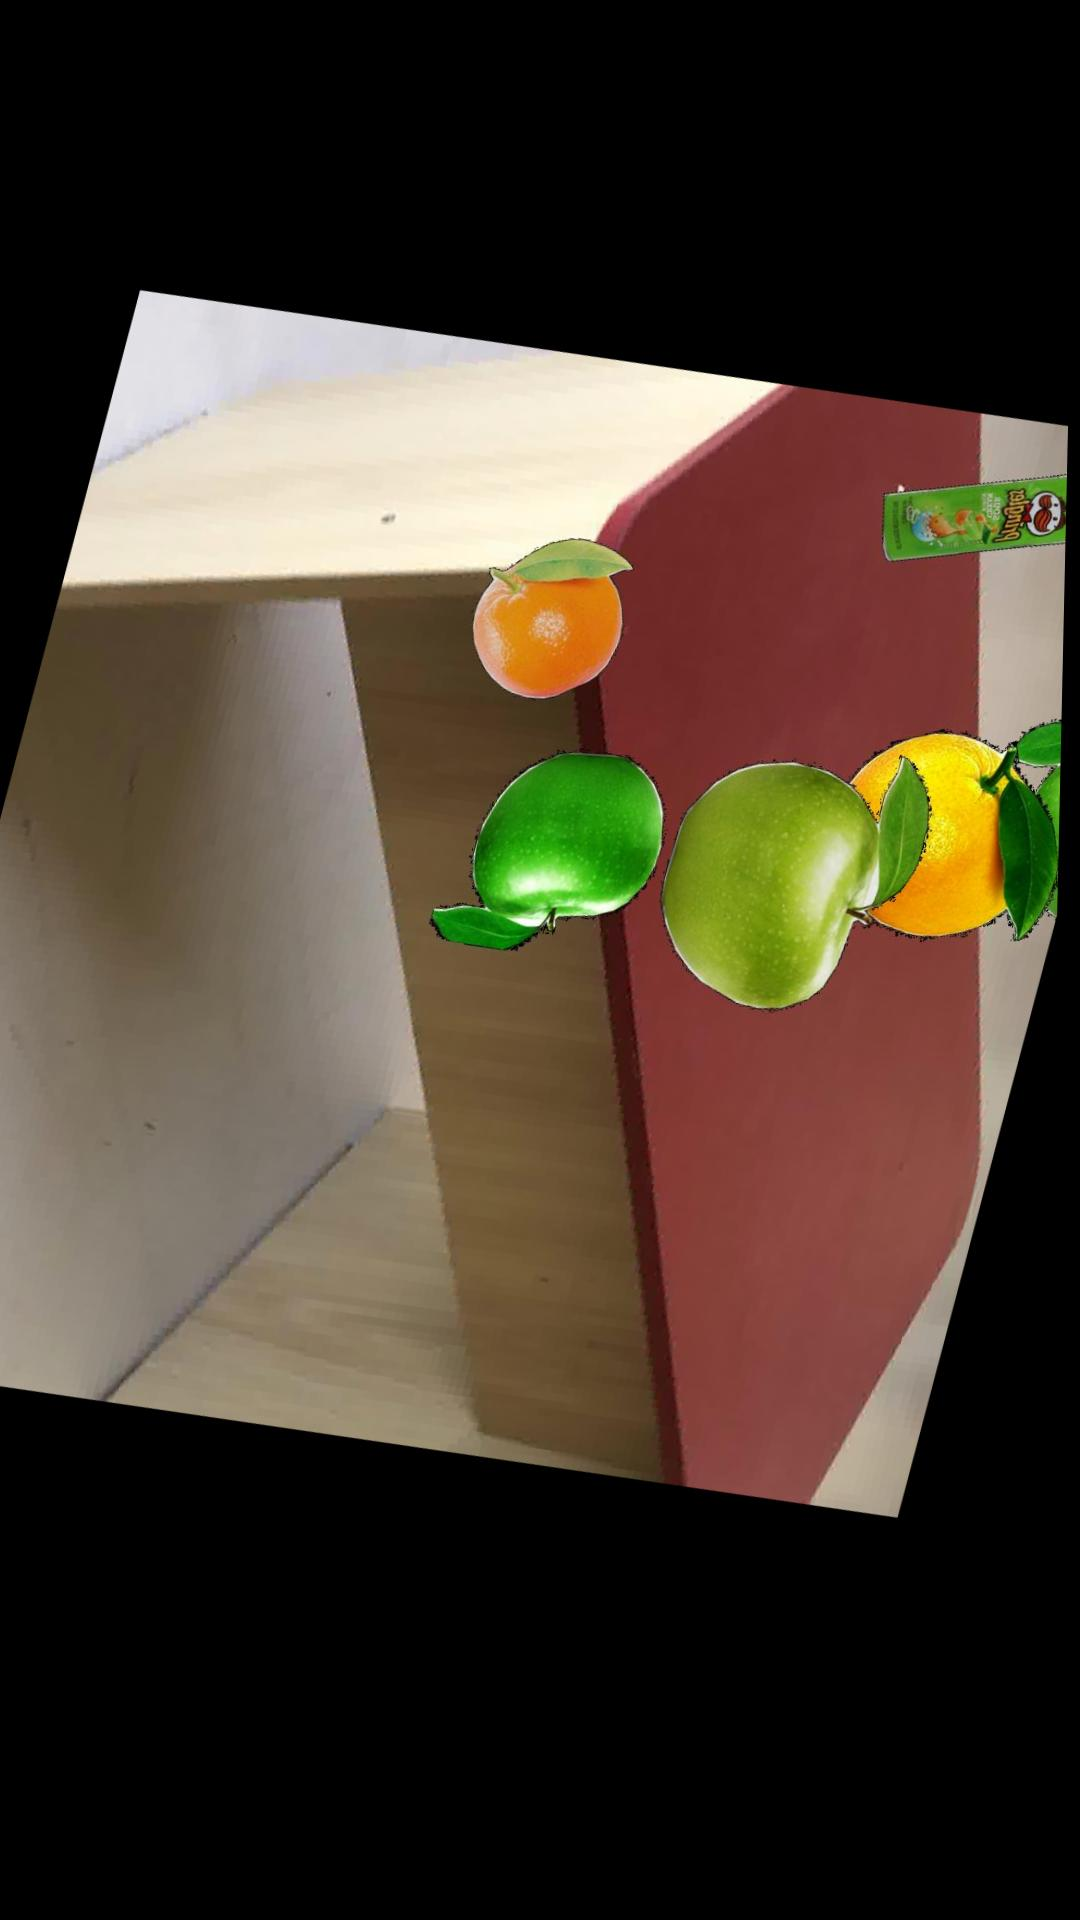green apple: (665, 774, 938, 1029), (435, 762, 670, 961), (1021, 742, 1065, 877)
orange: (853, 749, 1063, 963), (476, 550, 637, 711)
pringles: (886, 497, 1069, 580)
